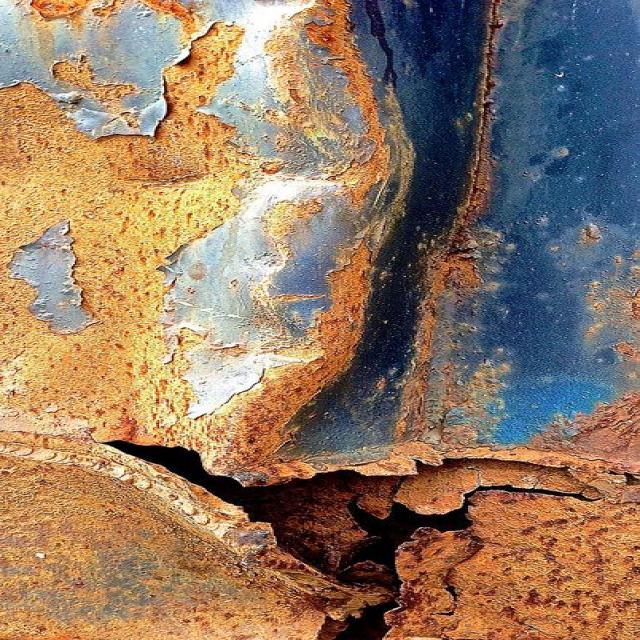Crevice Corrosion: (0, 0, 599, 639), (264, 0, 412, 225), (384, 529, 470, 639), (390, 298, 439, 442)
